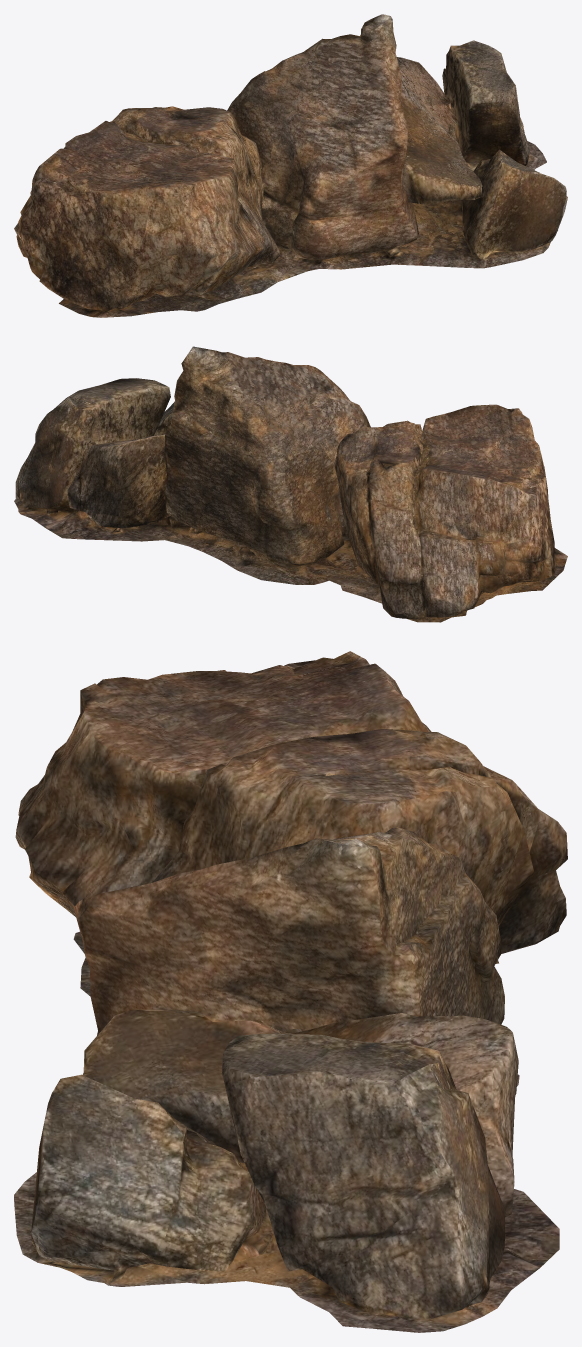
The model's file is namaqualand_boulder_02.glb.
3 views of the same model, one above another, from view 1: azimuth 30°, elevation 25°; view 2: azimuth 150°, elevation 25°; view 3: azimuth 270°, elevation 25° (orthographic). The views are drawn at different scales.
Parts seen in each view (by area): view 1: boulder_02; view 2: boulder_02; view 3: boulder_02.
Part boxes in pixels (x1,y1,x2,y2): boulder_02: (14,14,567,317); boulder_02: (14,346,567,622); boulder_02: (14,651,567,1332).
Size of the model in its own units: 2.52 by 0.8804 by 1.23.
Materials: 1 (1 with a texture image).
